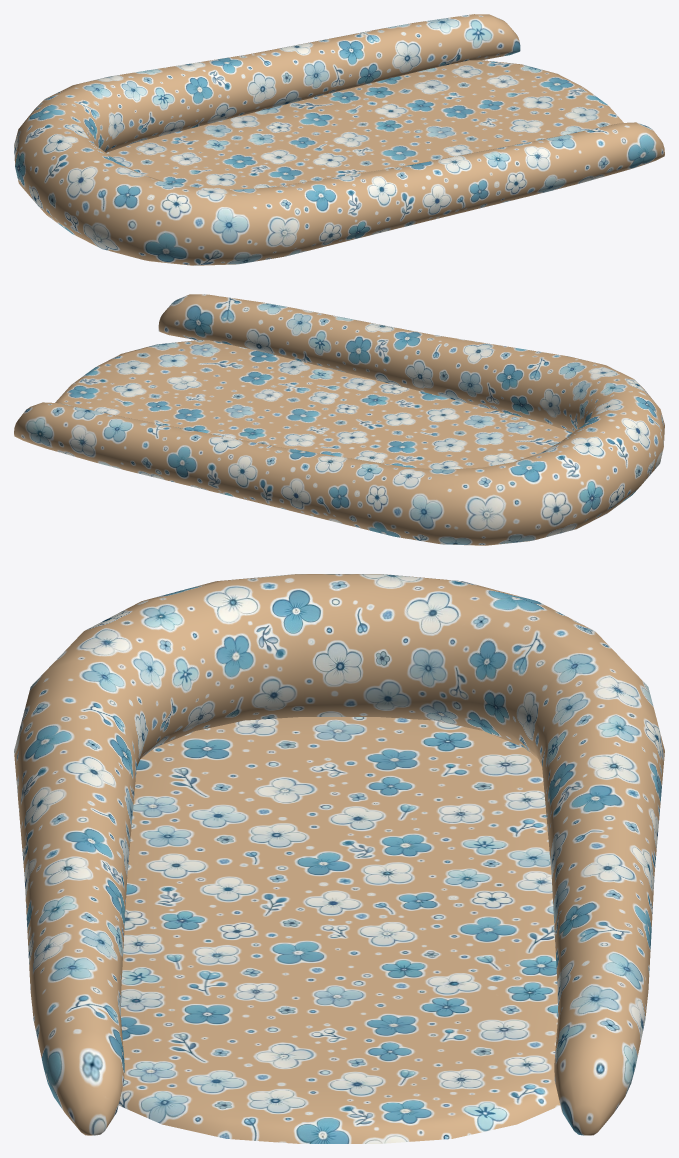
Rendered from FI_070_baby_cushion.glb.
3 renders of one model, top to bottom at view 1: azimuth 30°, elevation 25°; view 2: azimuth 150°, elevation 25°; view 3: azimuth 270°, elevation 25°, orthographic. The views are drawn at different scales.
Parts seen in each view (by area): view 1: baby_cushion; view 2: baby_cushion; view 3: baby_cushion.
Boxes of the visible parts, x1,y1,x2,y2 form: baby_cushion: [14, 14, 664, 265]; baby_cushion: [14, 294, 664, 545]; baby_cushion: [14, 574, 664, 1143].
Bounding box in the file's own units: 2.09 × 0.2731 × 1.24.
1 material, 1 textured.
